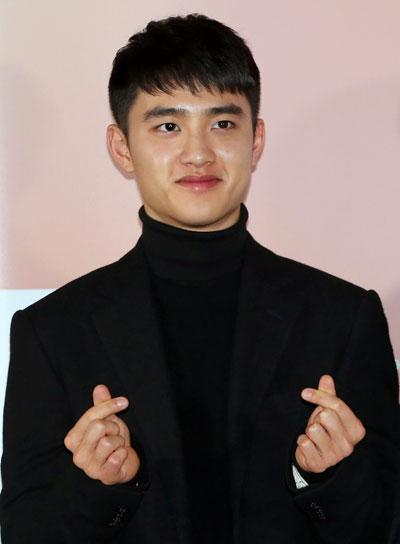heart gesture: (91, 381, 129, 419), (299, 372, 337, 409)
